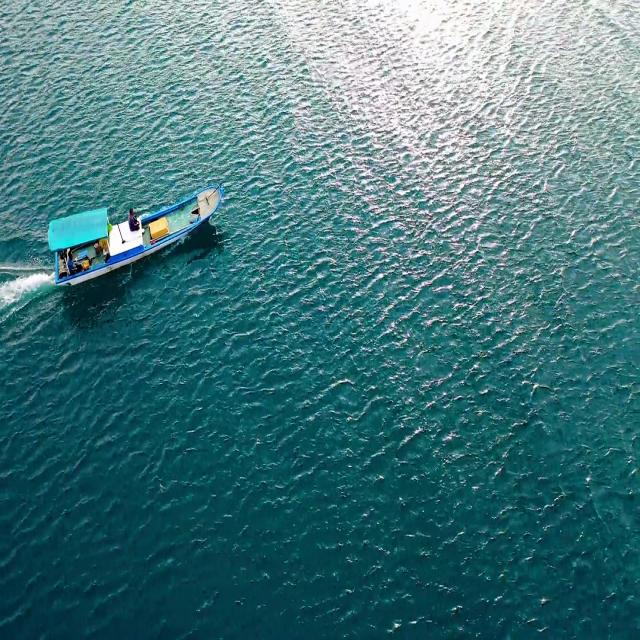ship: (43, 171, 226, 302)
